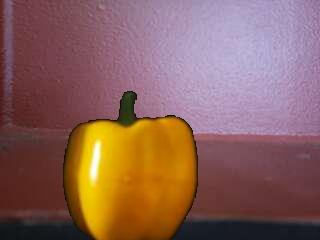Capsicum: (64, 87, 200, 240)
